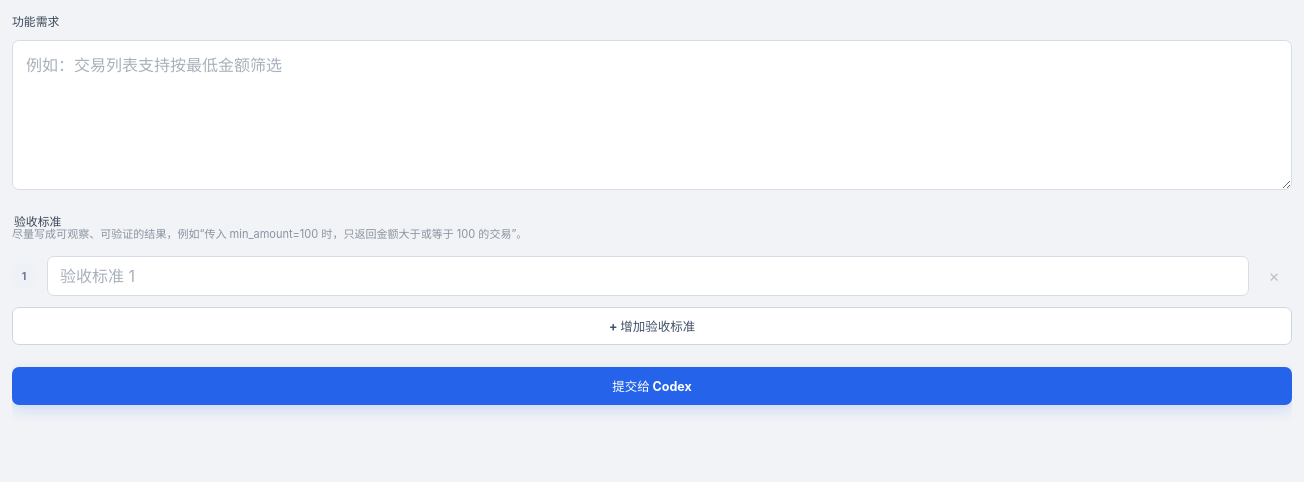
Test: TaskForm › removes an acceptance criterion while keeping at least one
The image size is (1304, 482).
In the field with test id "criterion-0": (648, 276) [47,256,1249,296], type "First result"
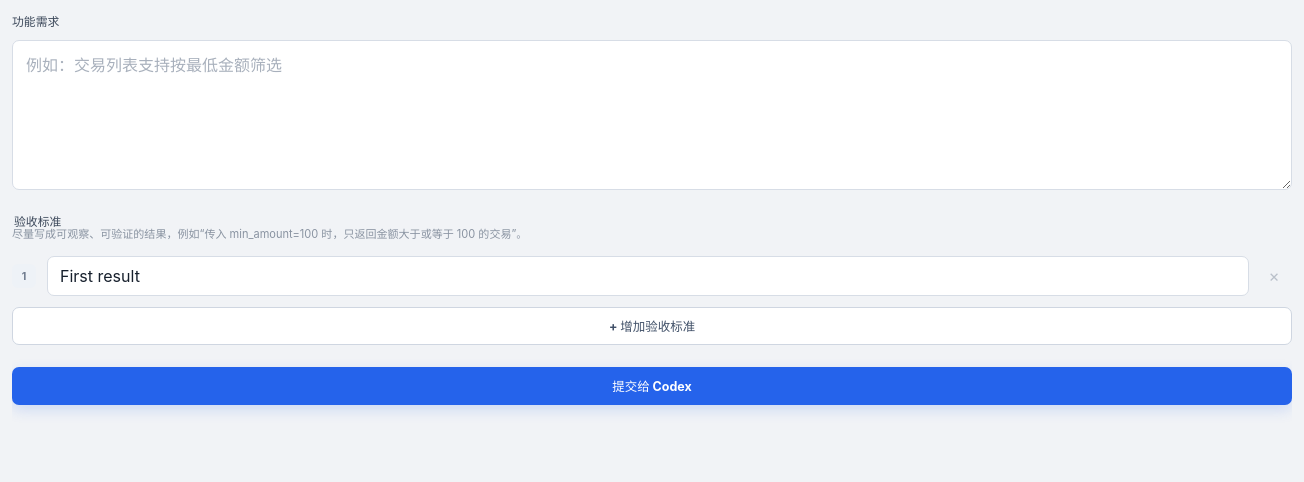
Click the button with test id "add-criterion": (652, 326) [12,307,1292,345]
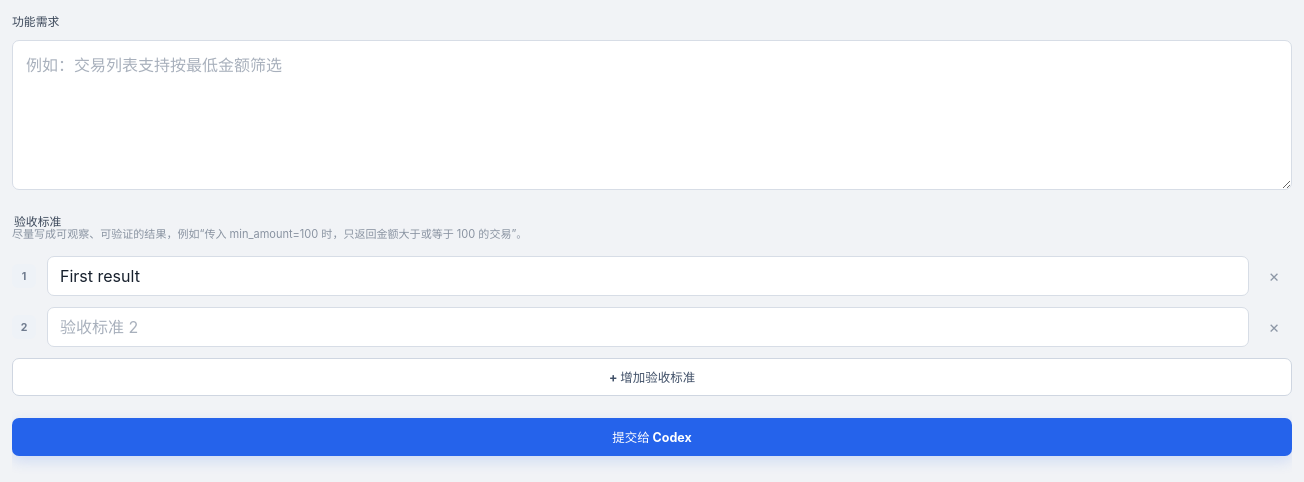
In the field with test id "criterion-1": (648, 327) [47,307,1249,347], type "Second result"
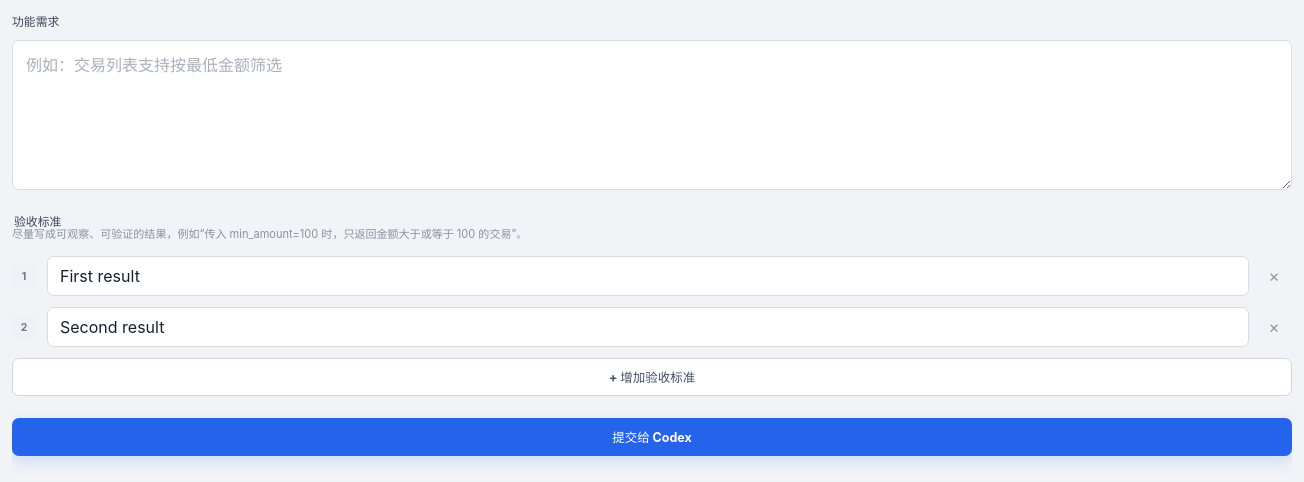
Click the button named "删除验收标准 1": (1274, 276) [1258,260,1290,292]
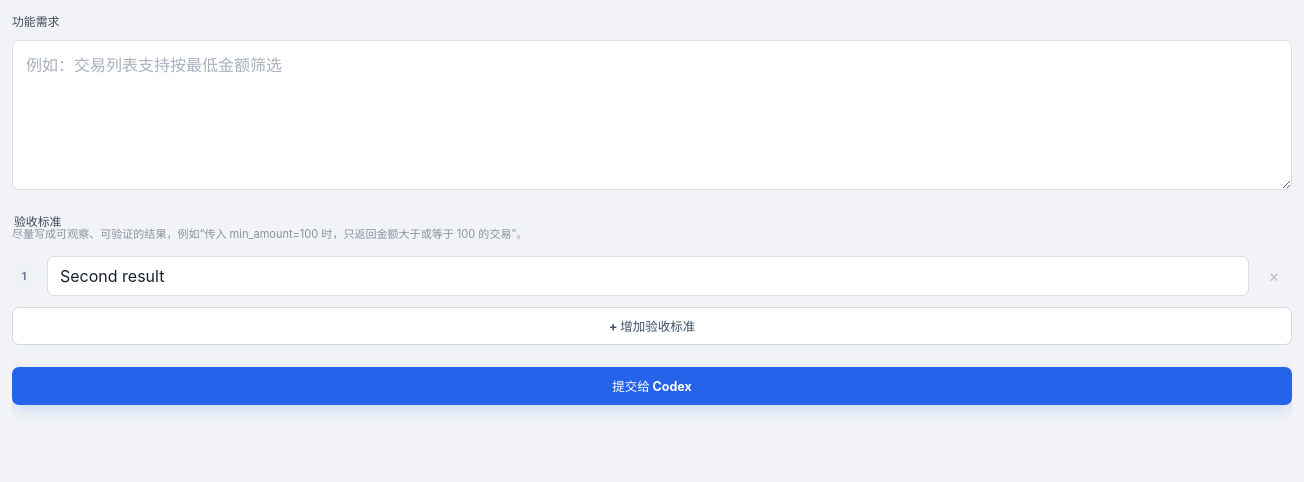
expect the field with test id "criterion-0" holds "Second result": met, box [47,256,1249,296]
